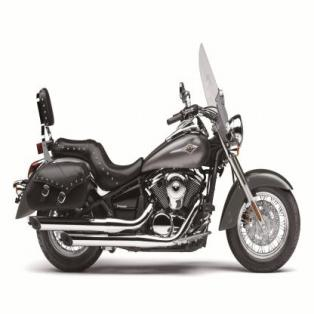Motocicleta: (12, 38, 304, 276)
